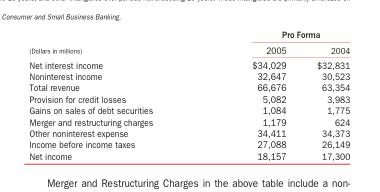table: (28, 28, 349, 161)
table column: (28, 28, 201, 161), (201, 28, 300, 161), (300, 28, 349, 161)
table column header: (28, 28, 349, 56)
table row: (28, 41, 349, 56), (28, 56, 349, 70), (28, 28, 349, 41), (28, 92, 349, 104), (28, 126, 349, 138), (28, 149, 349, 161), (28, 70, 349, 81), (28, 81, 349, 92), (28, 104, 349, 115), (28, 115, 349, 126), (28, 138, 349, 149)
table spanning cell: (28, 28, 201, 56), (201, 28, 349, 41)
